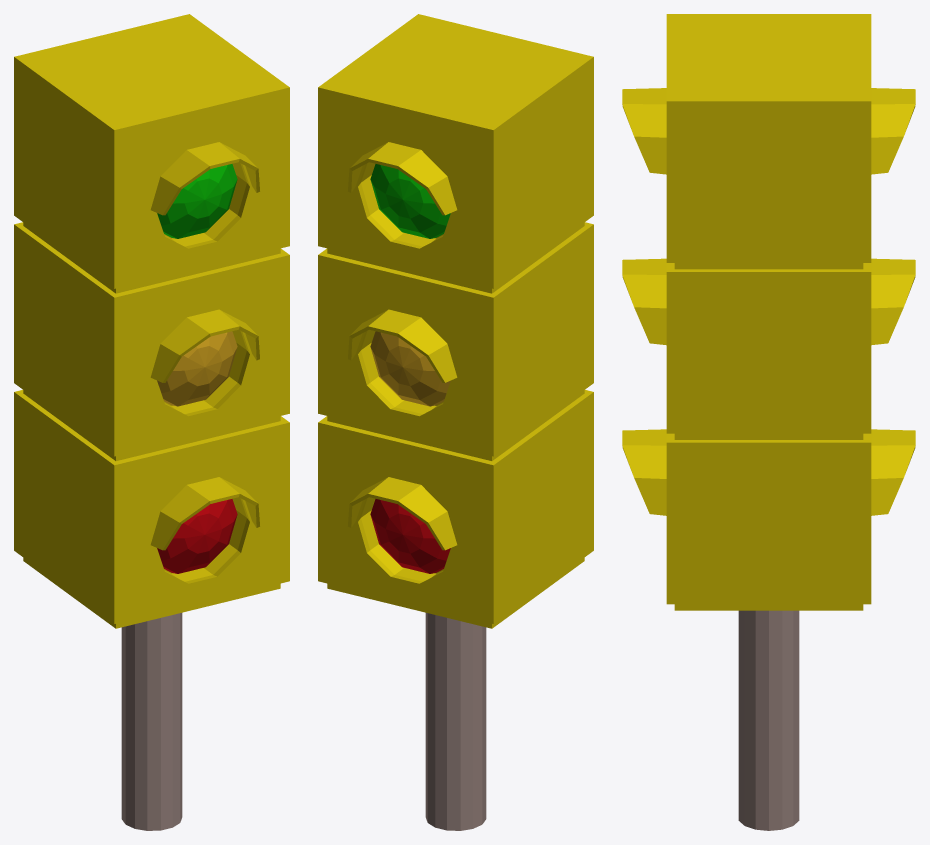
The model's file is D1_SPOTLIGHT.fbx.
3 renders of one model, left to right at view 1: azimuth 30°, elevation 25°; view 2: azimuth 150°, elevation 25°; view 3: azimuth 270°, elevation 25°, orthographic.
Parts seen in each view (by area): view 1: D1_STOPLIGHT; view 2: D1_STOPLIGHT; view 3: D1_STOPLIGHT.
Boxes of the visible parts, x1,y1,x2,y2 form: D1_STOPLIGHT: (14, 14, 289, 830); D1_STOPLIGHT: (318, 14, 593, 830); D1_STOPLIGHT: (622, 14, 915, 830).
Size of the model in its own units: 80.8 by 328 by 115.
